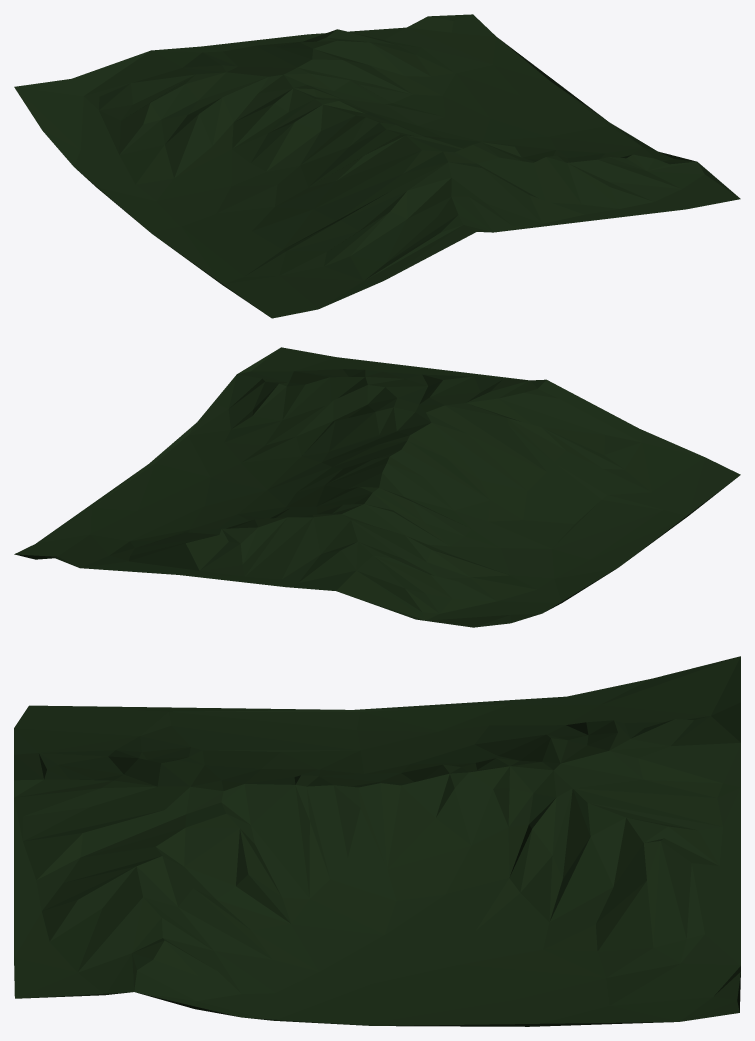
The model's file is SM_terrain_05.fbx.
3 renders of one model, top to bottom at view 1: azimuth 30°, elevation 25°; view 2: azimuth 150°, elevation 25°; view 3: azimuth 270°, elevation 25°, orthographic. The views are drawn at different scales.
Parts seen in each view (by area): view 1: terrain_05; view 2: terrain_05; view 3: terrain_05.
Boxes of the visible parts, box(x1,y1,x2,y2) form: terrain_05: box(14, 14, 740, 318); terrain_05: box(14, 347, 740, 627); terrain_05: box(14, 656, 740, 1026).
Size of the model in its own units: 7742 by 1055 by 7742.
